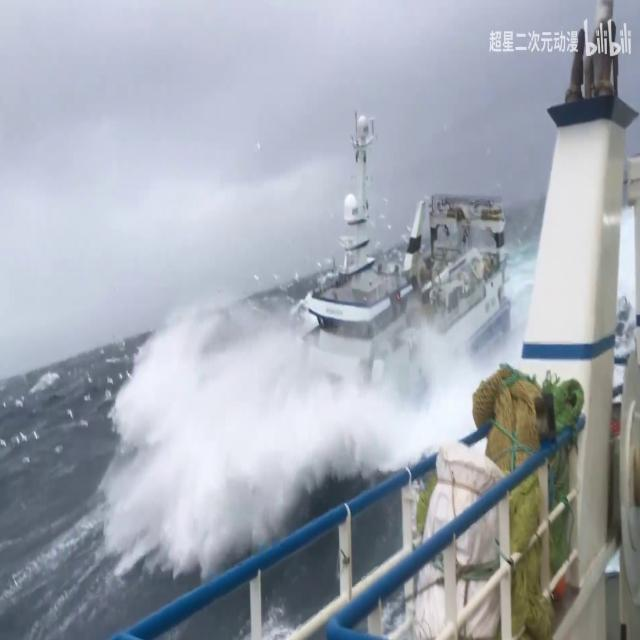houseboat: (255, 109, 507, 447)
